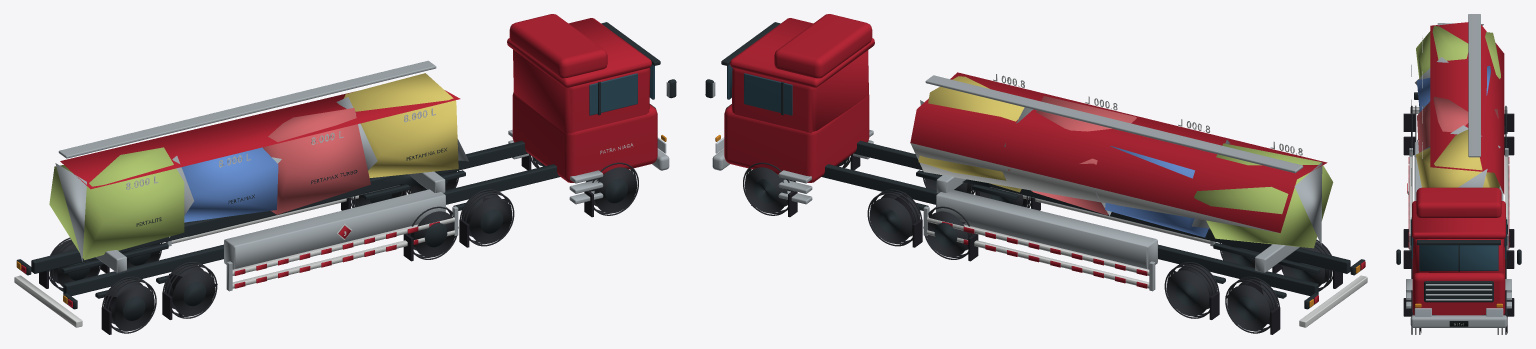
File: kompartemen.glb
3 views of the same model, side by side, from view 1: azimuth 30°, elevation 25°; view 2: azimuth 150°, elevation 25°; view 3: azimuth 270°, elevation 25° (orthographic). The views are drawn at different scales.
Parts seen in each view (by area): view 1: Main chassis; view 2: Main chassis; view 3: Main chassis.
Boxes of the visible parts, x1,y1,x2,y2 form: Main chassis: (14,14,676,334); Main chassis: (705,14,1367,334); Main chassis: (1396,14,1521,334).
Bounding box in the file's own units: 12 × 3.13 × 2.78.
